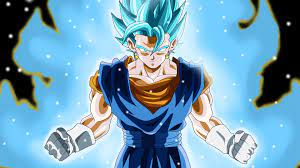Vegito: (120, 1, 183, 70)
